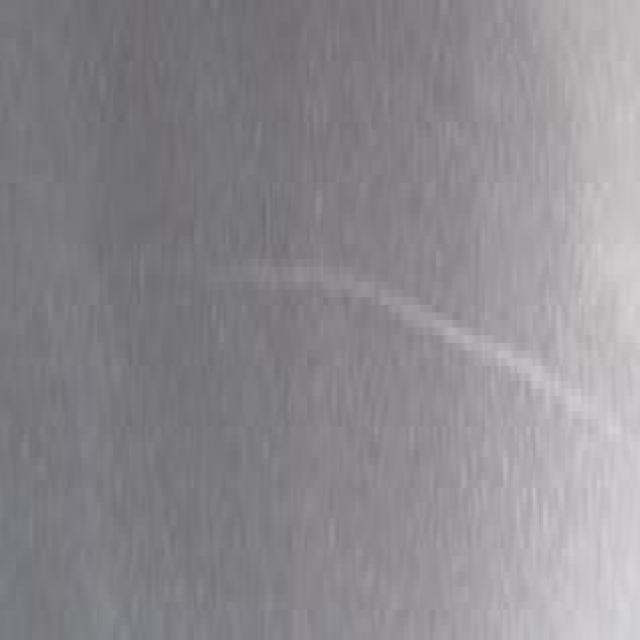scratch: (217, 213, 615, 457)
